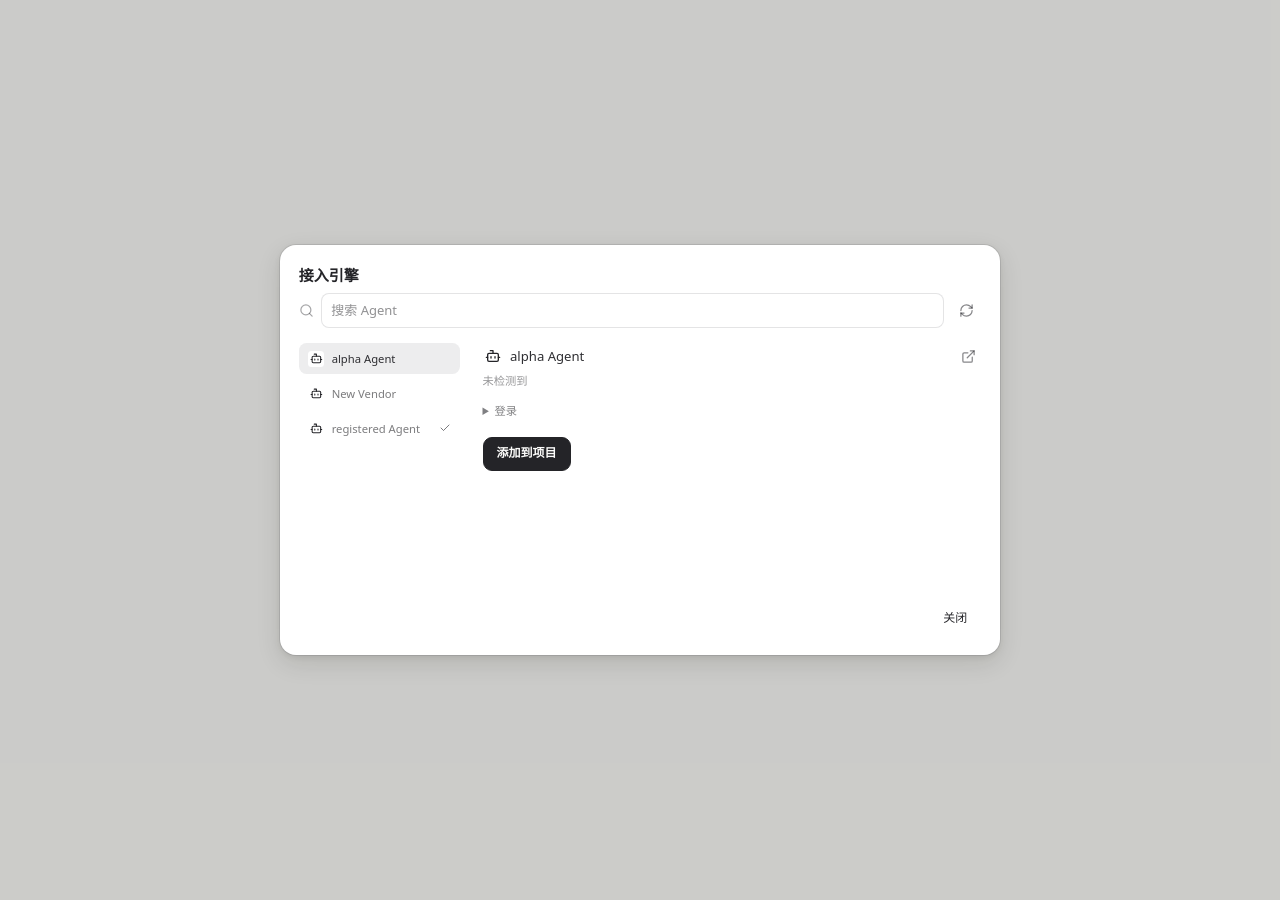
Test case: 接入引擎面板 › 接入失败保留选中项与重试入口，不虚报成功
Click the option with test id "connect-preset-new-vendor".
click(379, 393)  # box [299,378,460,409]
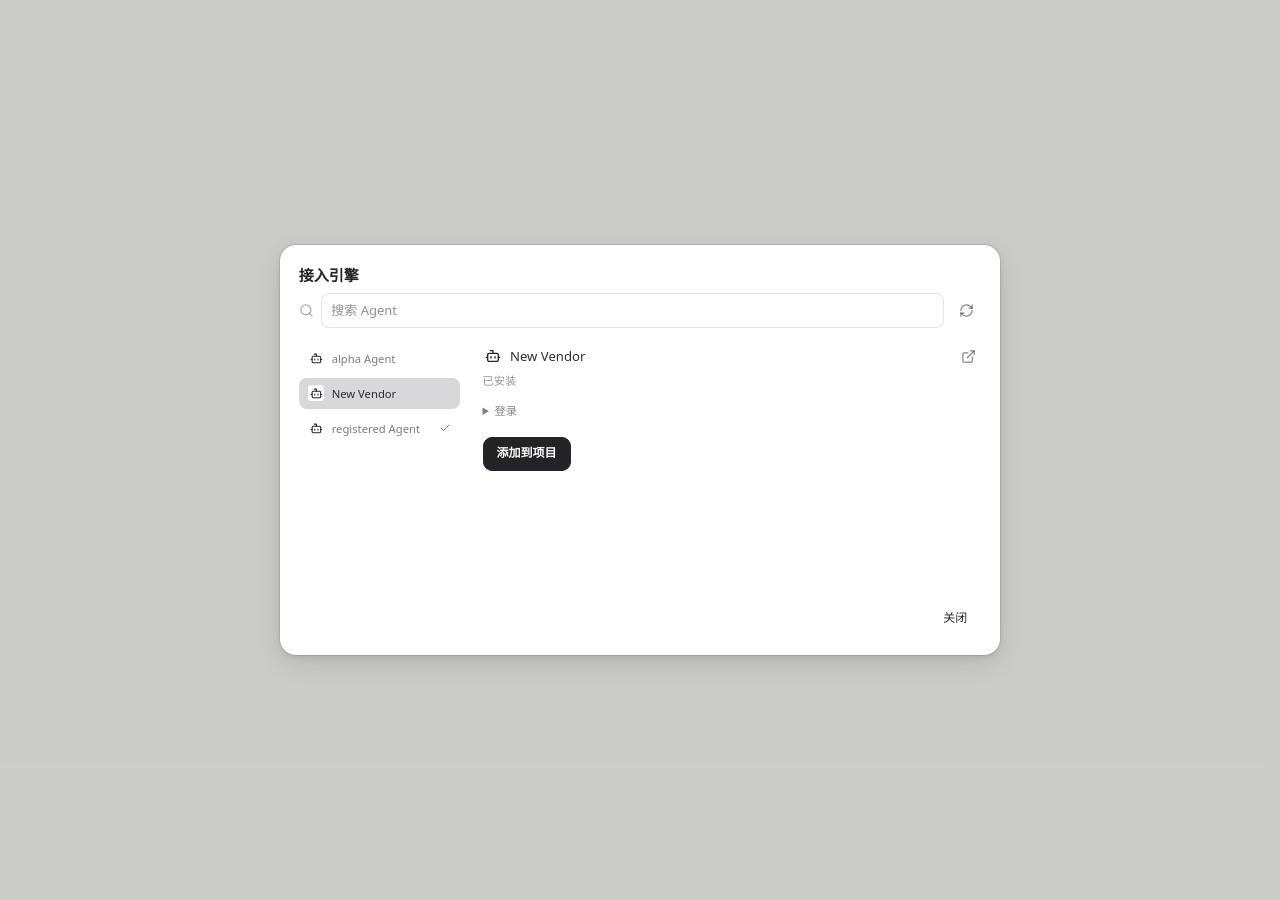
Click the button "添加到项目".
click(526, 454)  # box [482,437,570,471]
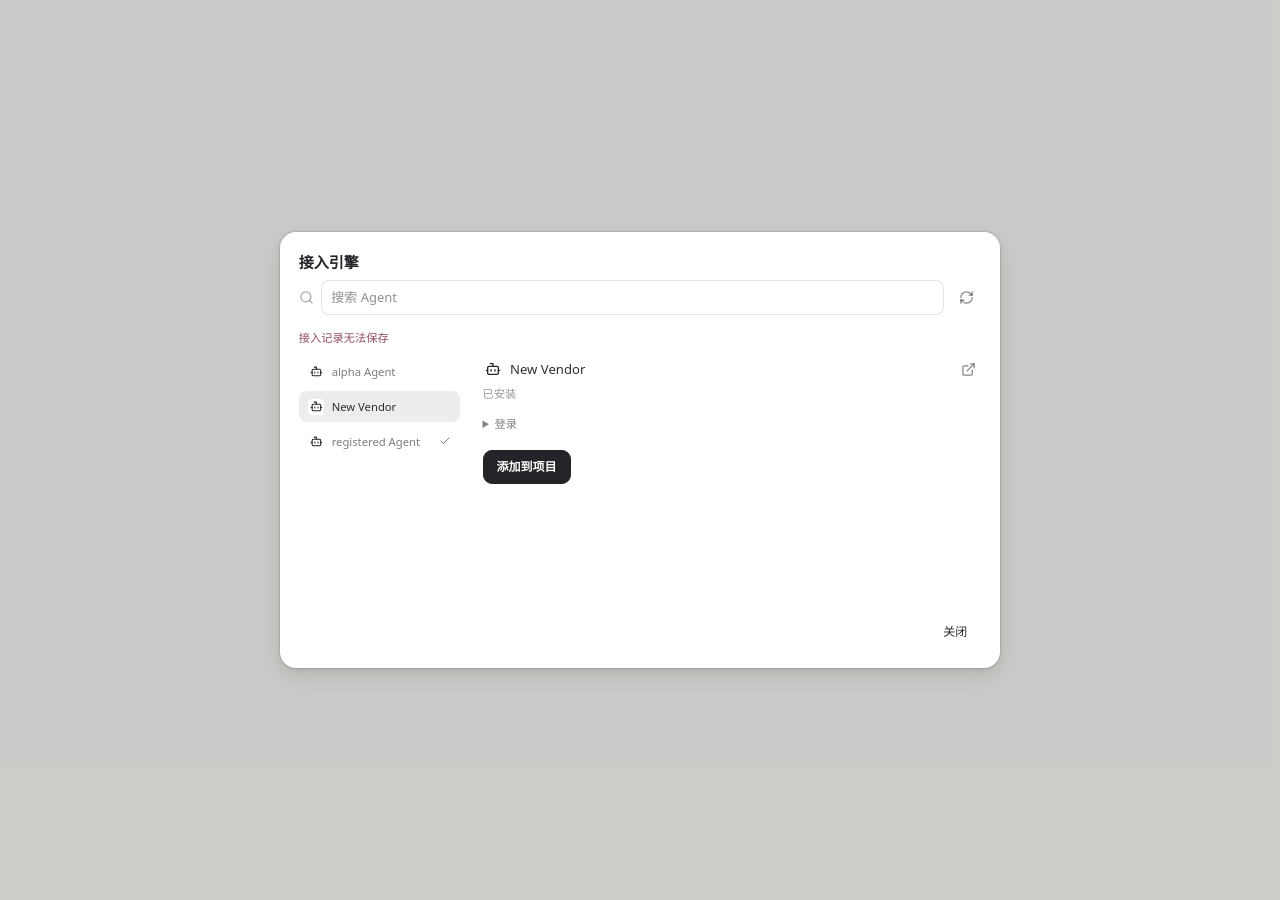
Expected: the button "添加到项目" is enabled, [482,450,570,484]
Expected: the message reads "接入记录无法保存", [299,330,389,345]
